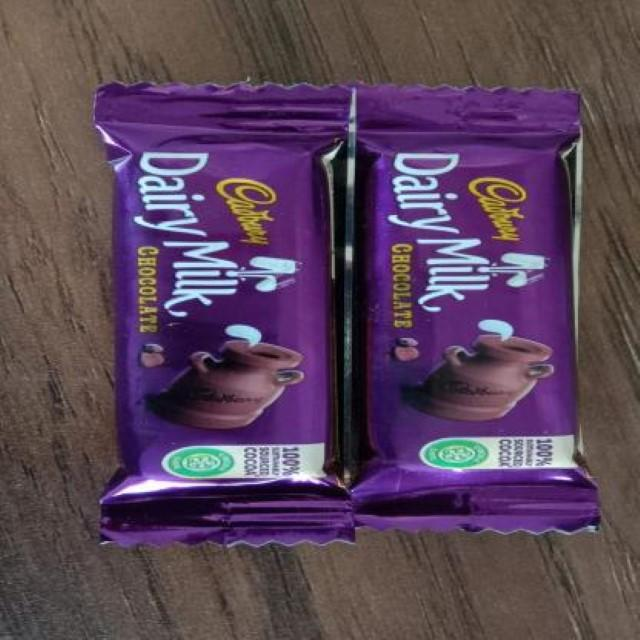cadbury_chocolate: (354, 75, 614, 542), (113, 77, 350, 540)
